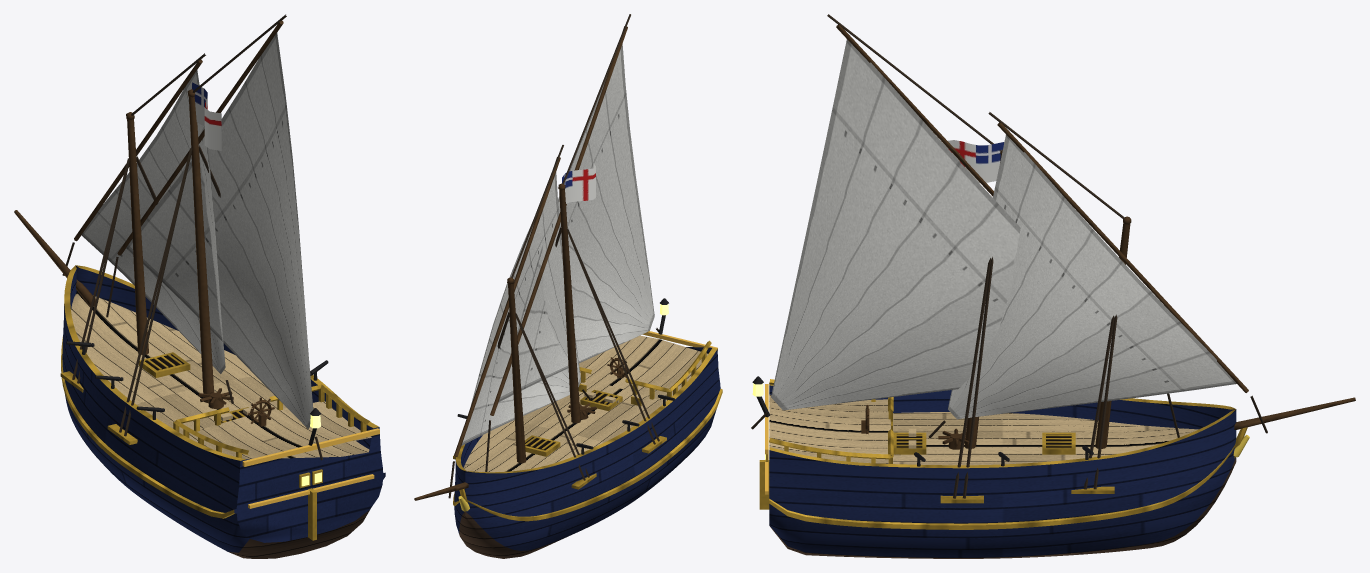
Rendered from navy_skirmisher.glb.
The picture shows the model from 3 angles, left to right: view 1: azimuth 30°, elevation 25°; view 2: azimuth 150°, elevation 25°; view 3: azimuth 270°, elevation 25°; orthographic projection. The views are drawn at different scales.
Parts seen in each view (by area): view 1: Hull, Sail1_0, Rigging, Sail0_0, Flag, Guns0; view 2: Hull, Sail1_0, Rigging, Sail0_0, Flag; view 3: Hull, Sail1_0, Sail0_0, Rigging, Flag.
Part boxes in pixels (box(x1,y1,x2,y2)): Hull: box(60, 265, 385, 558); Sail1_0: box(126, 32, 313, 428); Rigging: box(14, 14, 322, 460); Sail0_0: box(81, 70, 225, 373); Flag: box(192, 82, 221, 150); Guns0: box(66, 341, 328, 419); Hull: box(453, 298, 722, 558); Sail1_0: box(498, 44, 654, 401); Rigging: box(414, 14, 659, 500); Sail0_0: box(461, 172, 580, 445); Flag: box(562, 163, 595, 203); Hull: box(752, 376, 1249, 558); Sail1_0: box(771, 39, 1020, 410); Sail0_0: box(948, 134, 1236, 419); Rigging: box(751, 14, 1355, 498); Flag: box(943, 140, 1004, 182).
Bounding box in the file's own units: 0.7057 × 1.87 × 1.94.
Materials: 15 (8 with a texture image).
